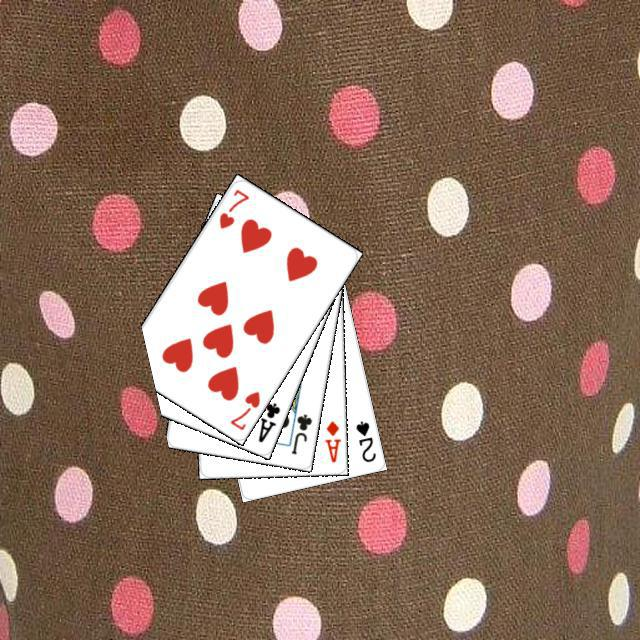2s: (351, 416, 377, 464)
7h: (225, 386, 262, 432), (214, 184, 251, 230)
Ac: (253, 397, 282, 444)
Ad: (320, 416, 342, 464)
Jc: (286, 409, 314, 456)
